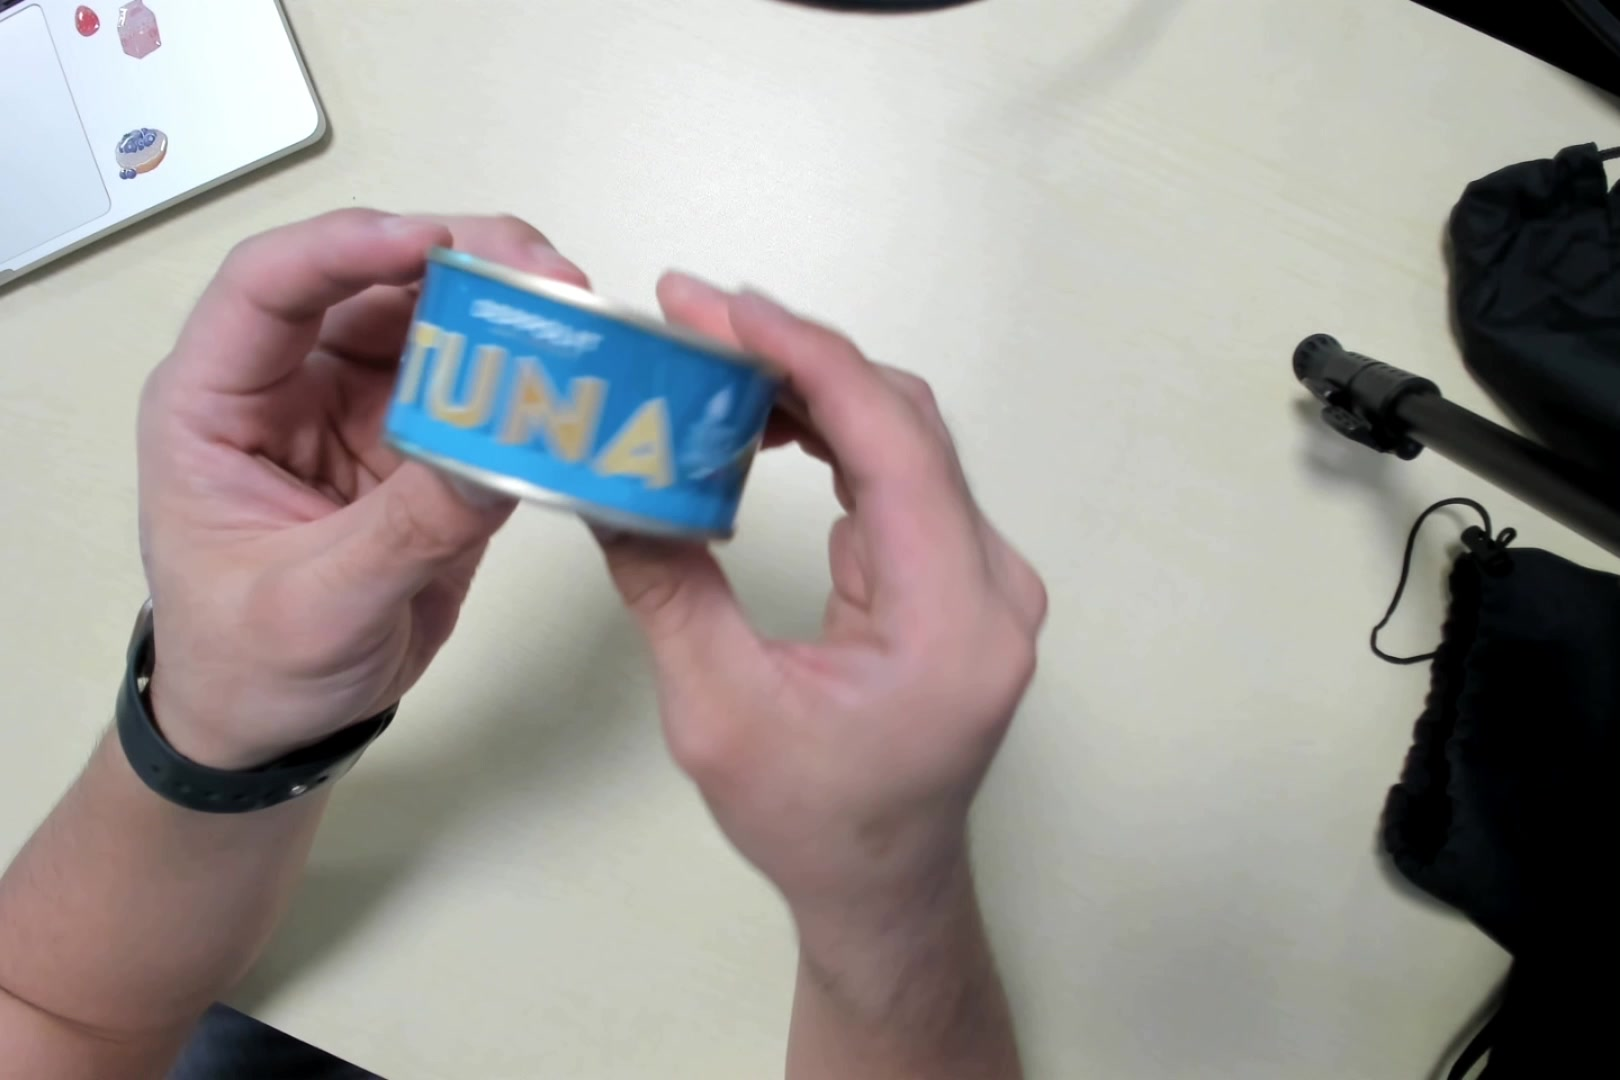CannedTunaDace_0-99g_NonHalal_NonHealthy: (386, 257, 788, 564)
